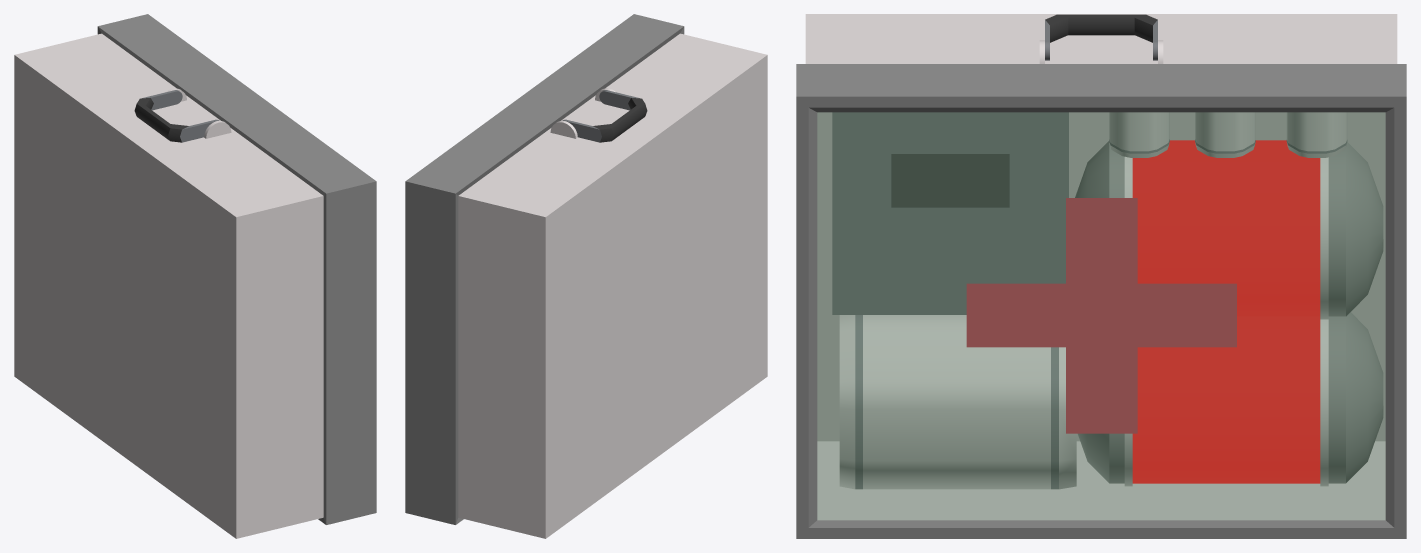
File: ent_medkit.fbx
The picture shows the model from 3 angles, left to right: view 1: azimuth 30°, elevation 25°; view 2: azimuth 150°, elevation 25°; view 3: azimuth 270°, elevation 25°; orthographic projection. The views are drawn at different scales.
Parts seen in each view (by area): view 1: MedKit, Handle; view 2: MedKit, Handle; view 3: MedKit, Misc, HelathVial1, HealthVial2, Bandages, Handle, SmallBandages3, SmallBandages1, SmallBandages2.
Part boxes in pixels (box(x1,y1,x2,y2)): MedKit: box(14, 14, 376, 538); Handle: box(134, 90, 219, 142); MedKit: box(405, 14, 767, 538); Handle: box(562, 90, 647, 142); MedKit: box(796, 14, 1406, 538); Misc: box(832, 112, 1068, 314); HelathVial1: box(1078, 312, 1383, 486); HealthVial2: box(1075, 140, 1383, 319); Bandages: box(839, 315, 1076, 489); Handle: box(1045, 14, 1157, 60); SmallBandages3: box(1286, 112, 1347, 157); SmallBandages1: box(1109, 112, 1169, 157); SmallBandages2: box(1195, 112, 1255, 157).
Size of the model in its own units: 17.83 by 42.27 by 51.53.
